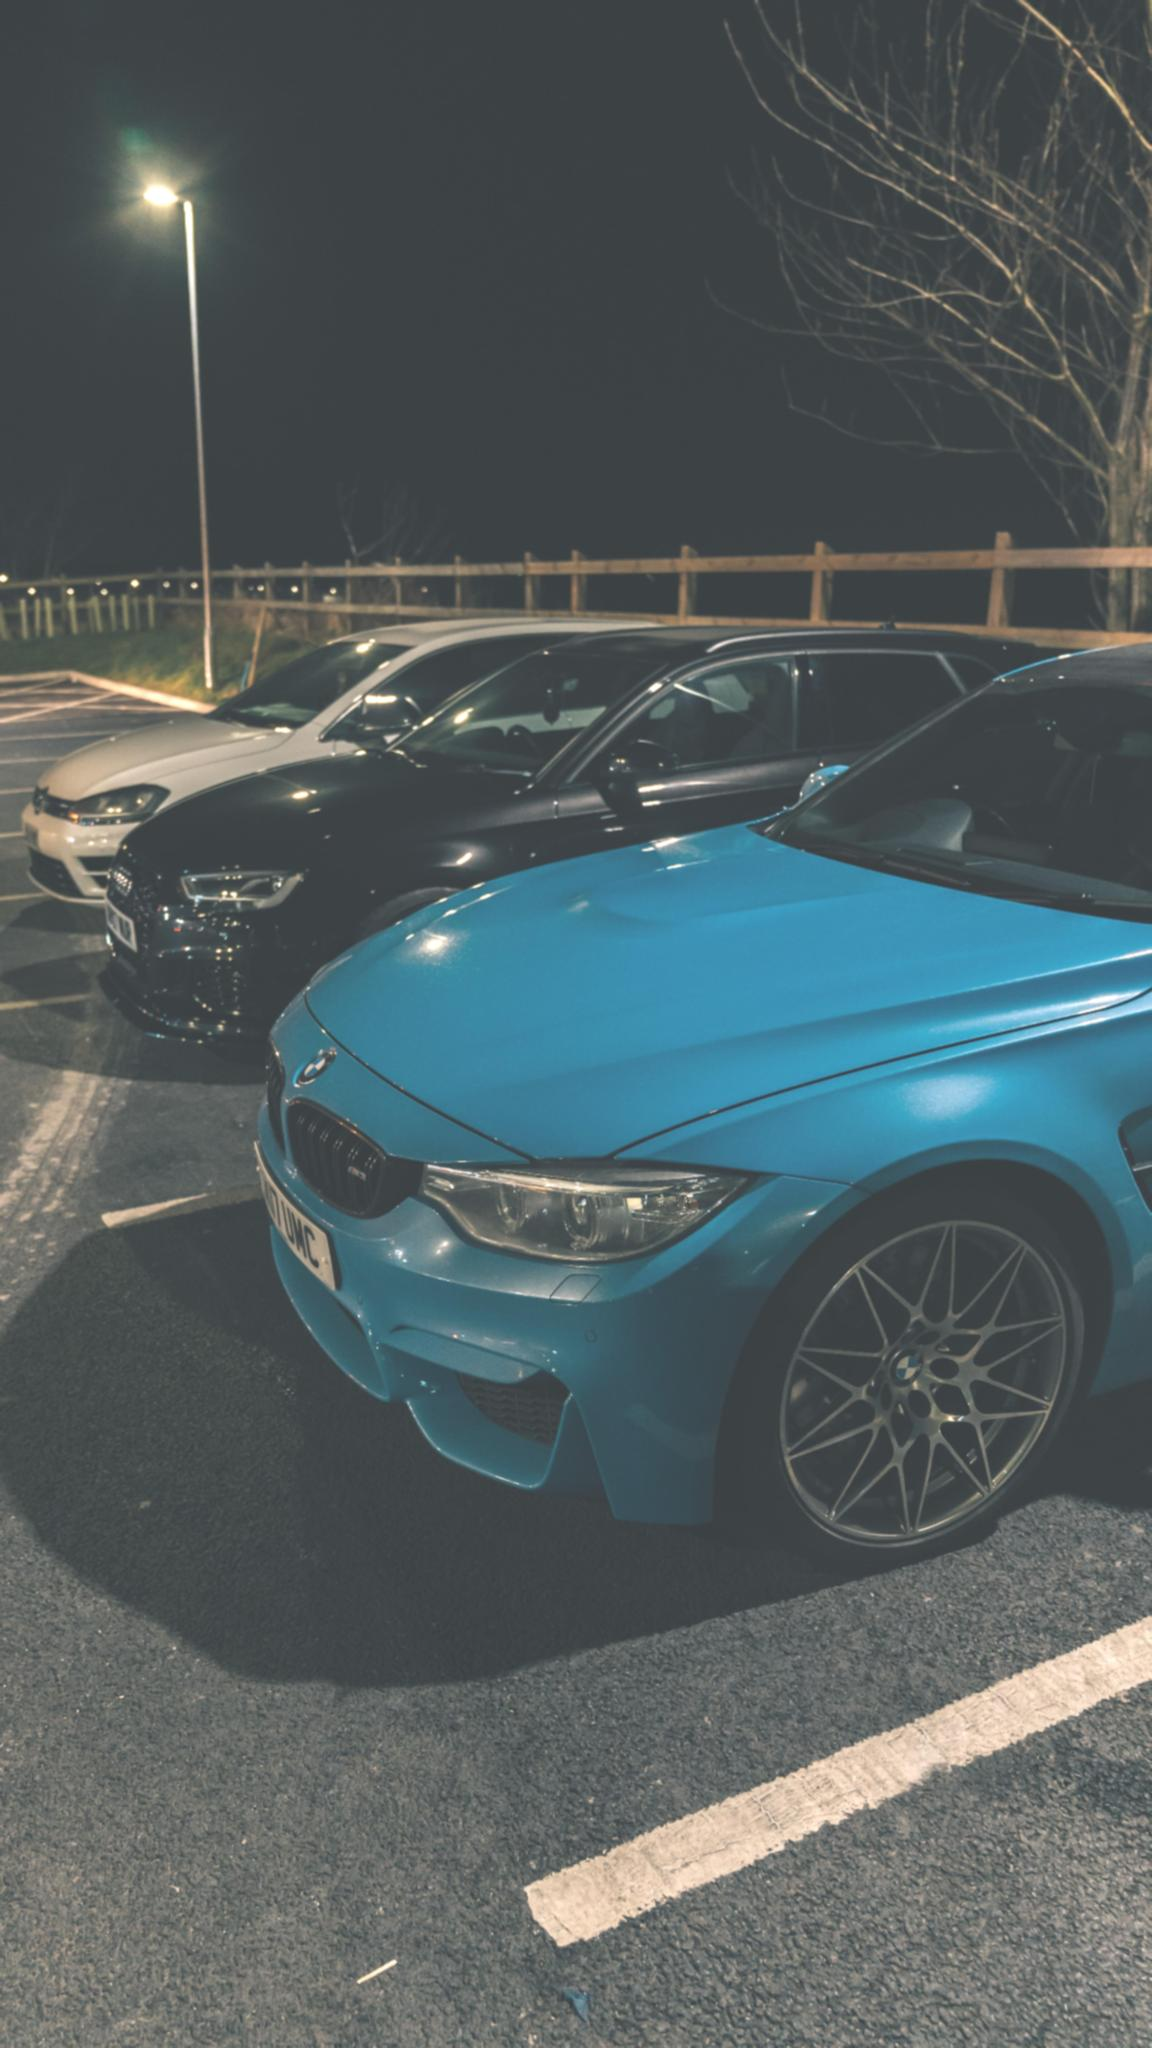Audi: (104, 859, 139, 909)
bmw: (284, 1038, 346, 1094)
